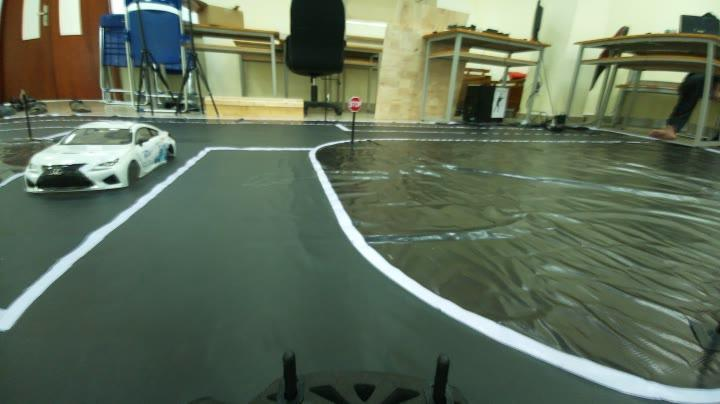car: (28, 115, 176, 196)
stop: (344, 93, 362, 111)
